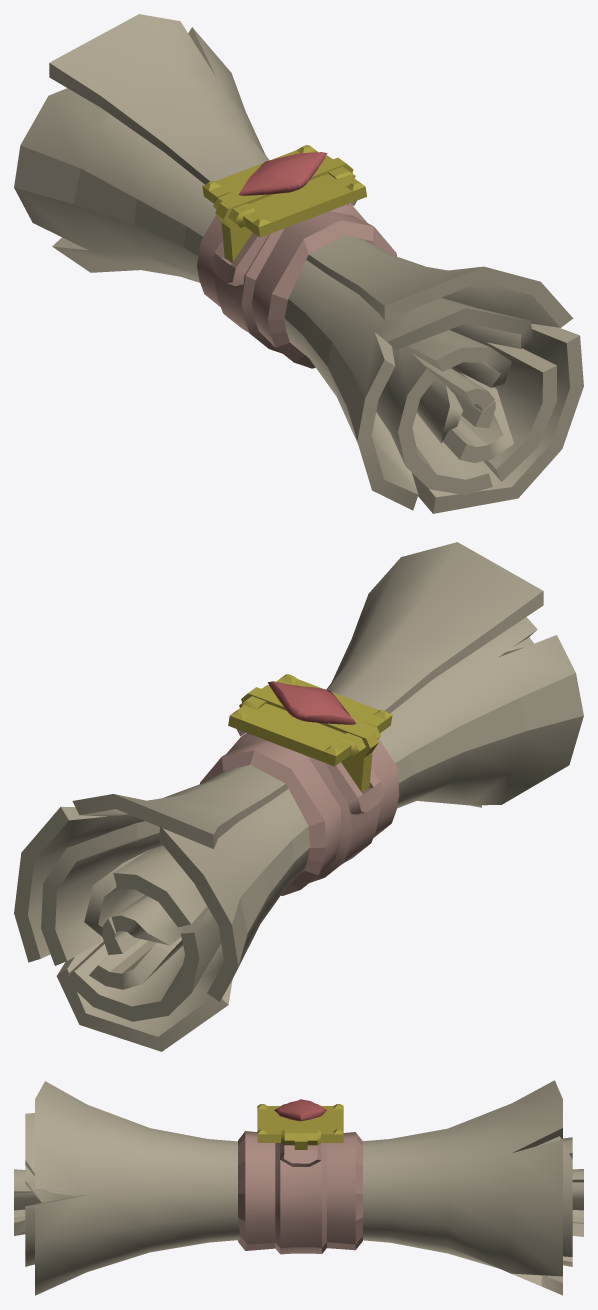
Rendered from ScrollV3.fbx.
3 views of the same model, one above another, from view 1: azimuth 30°, elevation 25°; view 2: azimuth 150°, elevation 25°; view 3: azimuth 270°, elevation 25° (orthographic). The views are drawn at different scales.
Parts seen in each view (by area): view 1: polySurface2; view 2: polySurface2; view 3: polySurface2.
Boxes of the visible parts, x1,y1,x2,y2 form: polySurface2: [14, 14, 583, 513]; polySurface2: [14, 542, 583, 1051]; polySurface2: [14, 1080, 583, 1295].
Bounding box in the file's own units: 21.08 × 22.02 × 60.01.
